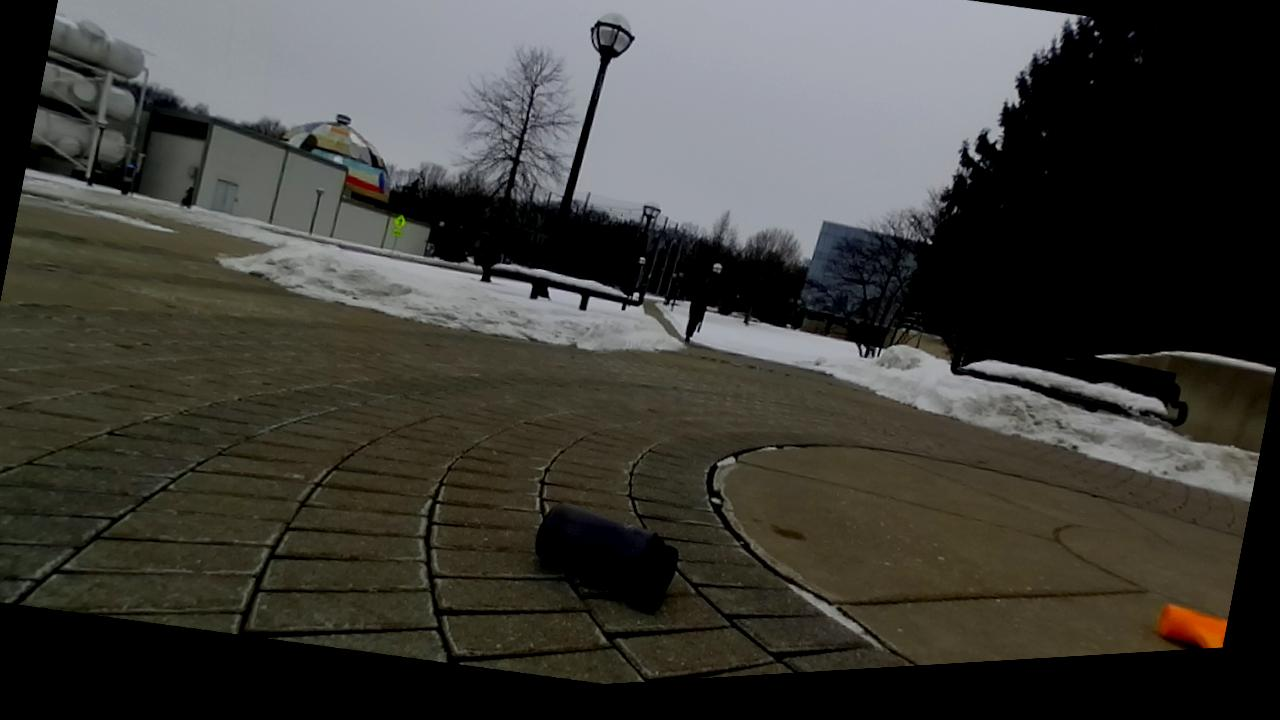bottle: (535, 504, 675, 610)
mallet: (1157, 604, 1226, 649)
